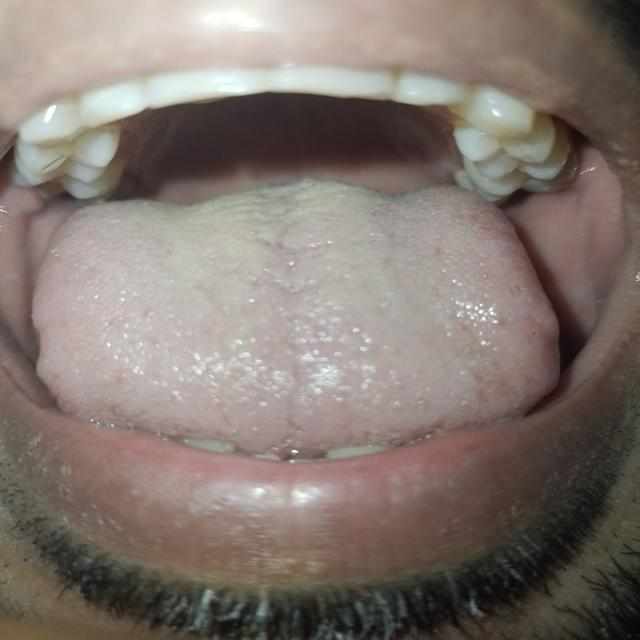No Cancer: (80, 207, 523, 416)
